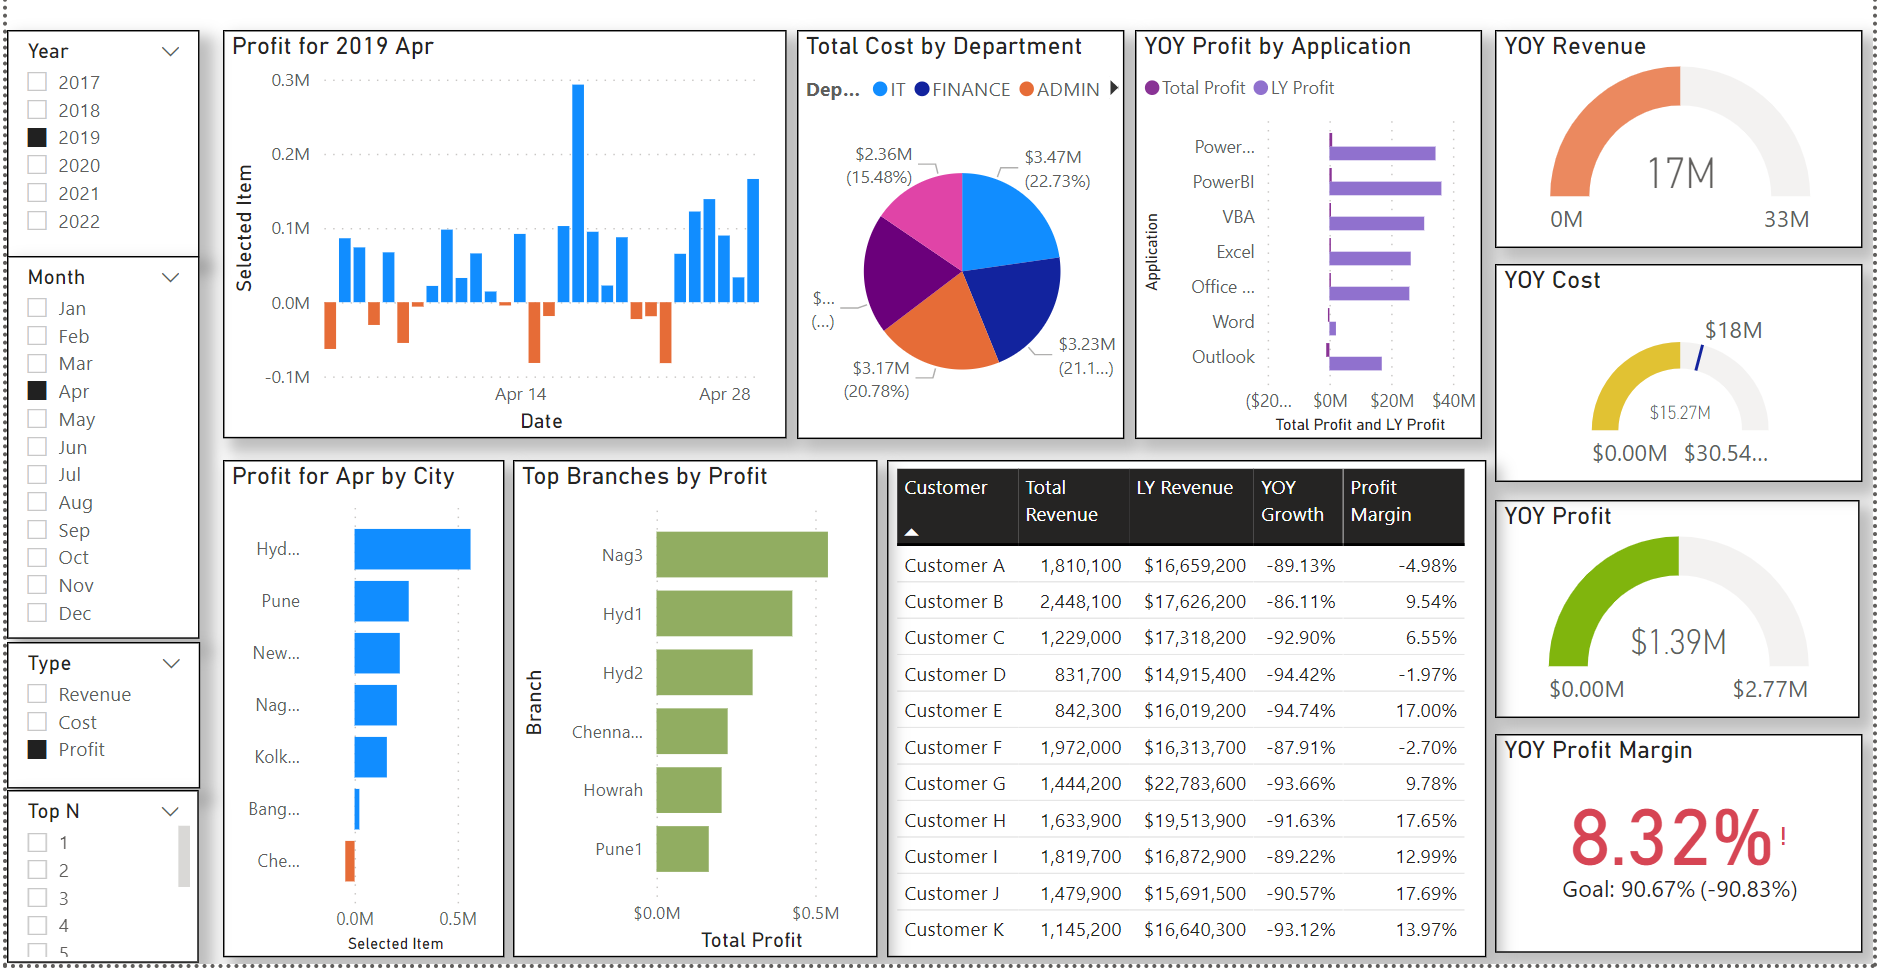

What the dashboard file says about the page in this screenshot:
{"tool":"powerbi","page":{"name":"Summary","canvas":[1280,720],"ordinal":0},"visuals":[{"type":"clusteredColumnChart","fields":{"Category":["Dates.Date"],"Y":["Category.Selected Item"]},"box":[147.7,79.5,386.3,280.2],"z":0},{"type":"slicer","fields":{"Values":["Dates.Year"]},"box":[0,78.9,131.9,156.2],"z":1000},{"type":"slicer","fields":{"Values":["Dates.Month"]},"box":[0,235.1,131.9,262.4],"z":2000},{"type":"slicer","fields":{"Values":["Category.Type"]},"box":[0,499.9,132.5,100.4],"z":3000},{"type":"pieChart","fields":{"Category":["Department.Department"],"Y":["Basic Measures.Total Cost"]},"box":[541.4,78.9,224.5,280.6],"z":4000},{"type":"clusteredBarChart","title":"YOY Profit by Application","fields":{"Category":["Application.Application"],"Y":["Basic Measures.Total Profit","Time Intelligence.LY Profit"]},"box":[773.5,78.9,238.1,280.6],"z":5000},{"type":"gauge","title":"YOY Revenue","fields":{"Y":["Basic Measures.Total Revenue"],"TargetValue":["Time Intelligence.LY Revenue"]},"box":[1020.6,79.5,251.8,149.6],"z":6000},{"type":"gauge","title":"YOY Profit","fields":{"Y":["Basic Measures.Total Profit"],"TargetValue":["Time Intelligence.LY Profit"]},"box":[1020.6,401.4,249.9,149.6],"z":7000},{"type":"gauge","title":"YOY Cost","fields":{"Y":["Basic Measures.Total Cost"],"TargetValue":["Time Intelligence.LY Cost"]},"box":[1020.6,240.5,251.8,149.6],"z":8000},{"type":"kpi","title":"YOY Profit Margin ","fields":{"Indicator":["Basic Measures.Profit Margin"],"TrendLine":["Dates.Month"],"Goal":["Time Intelligence.LY Profit Margin"]},"box":[1020.7,562.7,251.8,150.1],"z":9000},{"type":"clusteredBarChart","fields":{"Category":["Branch.City"],"Y":["Category.Selected Item"]},"box":[147.7,374.9,193.1,340.8],"z":10000},{"type":"tableEx","fields":{"Values":["Customer.Customer","Basic Measures.Total Revenue","Time Intelligence.LY Revenue","Time Intelligence.YOY Growth","Basic Measures.Profit Margin"]},"box":[603.6,374.6,411,341.2],"z":11000},{"type":"clusteredBarChart","title":"Top Branches by Profit","fields":{"Y":["Basic Measures.Total Profit"],"Category":["Branch.Branch"]},"box":[347.3,374.6,250.2,341.2],"z":12000},{"type":"actionButton","box":[0,0,100,40],"z":13000},{"type":"textbox","box":[598.3,0,240.5,54.9],"z":14000},{"type":"slicer","fields":{"Values":["Top N.Top N"]},"box":[0,601,131.7,118.7],"z":15000}]}

Visuals, with their boxes on the page's 1280x720 design canvas (x1, y1, x2, y2). These are canvas units, not pixel positions in the 1881x977 screenshot, which may show the page scaled, cropped or inside an application window:
clusteredColumnChart - Dates.Date x Category.Selected Item: <bbox>148, 80, 534, 360</bbox>
slicer - Dates.Year: <bbox>0, 79, 132, 235</bbox>
slicer - Dates.Month: <bbox>0, 235, 132, 498</bbox>
slicer - Category.Type: <bbox>0, 500, 132, 600</bbox>
pieChart - Department.Department x Basic Measures.Total Cost: <bbox>541, 79, 766, 360</bbox>
"YOY Profit by Application" clusteredBarChart: <bbox>774, 79, 1012, 360</bbox>
"YOY Revenue" gauge: <bbox>1021, 80, 1272, 229</bbox>
"YOY Profit" gauge: <bbox>1021, 401, 1270, 551</bbox>
"YOY Cost" gauge: <bbox>1021, 240, 1272, 390</bbox>
"YOY Profit Margin " kpi: <bbox>1021, 563, 1272, 713</bbox>
clusteredBarChart - Branch.City x Category.Selected Item: <bbox>148, 375, 341, 716</bbox>
tableEx - Customer.Customer x Basic Measures.Total Revenue: <bbox>604, 375, 1015, 716</bbox>
"Top Branches by Profit" clusteredBarChart: <bbox>347, 375, 598, 716</bbox>
actionButton: <bbox>0, 0, 100, 40</bbox>
textbox: <bbox>598, 0, 839, 55</bbox>
slicer - Top N.Top N: <bbox>0, 601, 132, 720</bbox>
